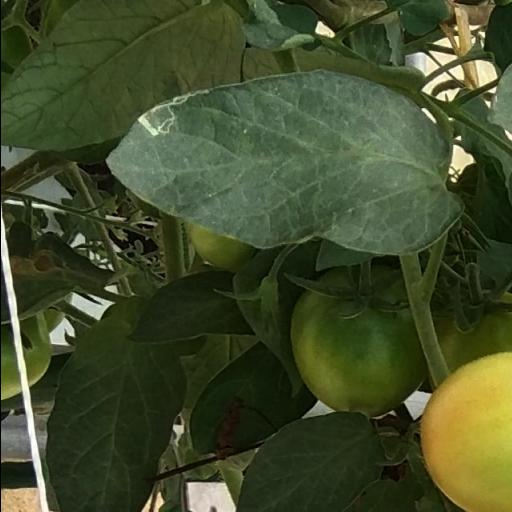Leaf Miner: (102, 70, 466, 260)
